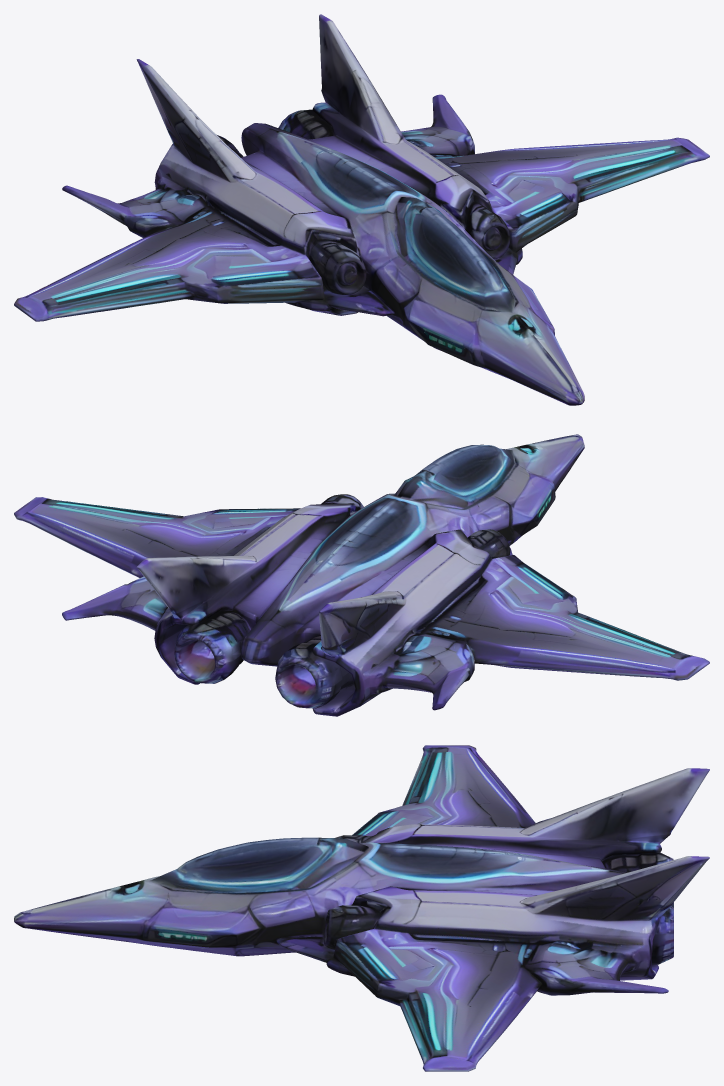
Rendered from fighter-c.glb.
3 renders of one model, top to bottom at view 1: azimuth 30°, elevation 25°; view 2: azimuth 150°, elevation 25°; view 3: azimuth 270°, elevation 25°, orthographic.
Visible parts, largest first — view 1: material; view 2: material; view 3: material.
Boxes of the visible parts, box(x1,y1,x2,y2) form: material: box(14, 14, 709, 405); material: box(14, 434, 709, 716); material: box(14, 745, 709, 1071).
Size of the model in its own units: 1.15 by 0.223 by 1.04.
1 material, 1 textured.
